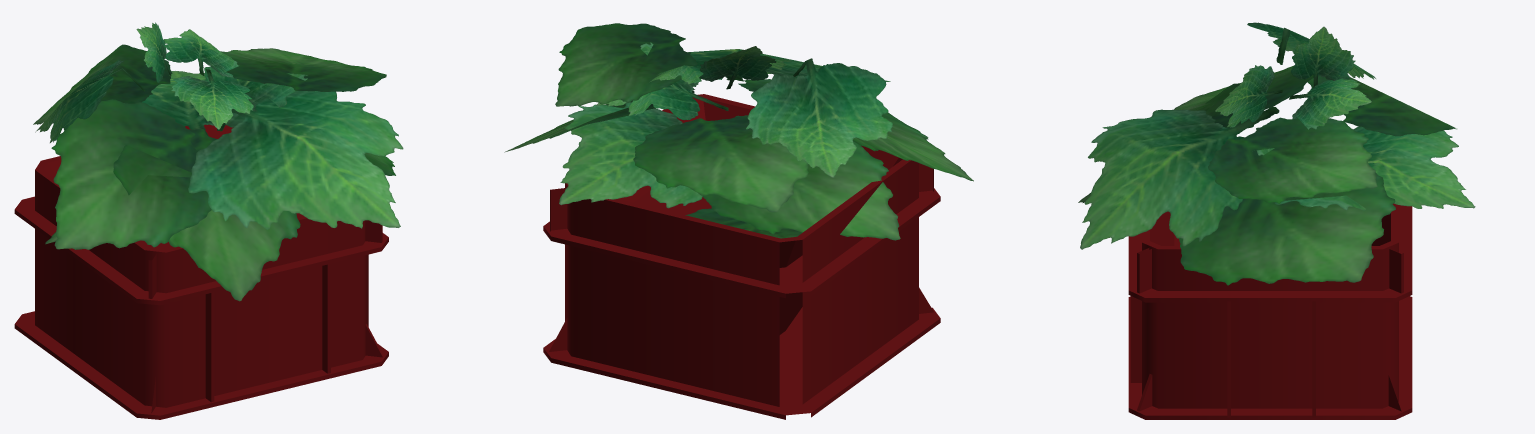
Rendered from M_zhiwu04.FBX.
3 renders of one model, left to right at view 1: azimuth 30°, elevation 25°; view 2: azimuth 150°, elevation 25°; view 3: azimuth 270°, elevation 25°, orthographic. The views are drawn at different scales.
Parts seen in each view (by area): view 1: M_zhiwu04_02, M_zhiwu04_01; view 2: M_zhiwu04_01, M_zhiwu04_02; view 3: M_zhiwu04_02, M_zhiwu04_01.
Part boxes in pixels (box(x1,y1,x2,y2)): M_zhiwu04_02: box(33, 22, 403, 301); M_zhiwu04_01: box(14, 124, 388, 419); M_zhiwu04_01: box(543, 94, 940, 419); M_zhiwu04_02: box(504, 23, 973, 240); M_zhiwu04_02: box(1078, 22, 1475, 285); M_zhiwu04_01: box(1128, 203, 1412, 419).
Bounding box in the file's own units: 1.2 × 1.02 × 1.19.
